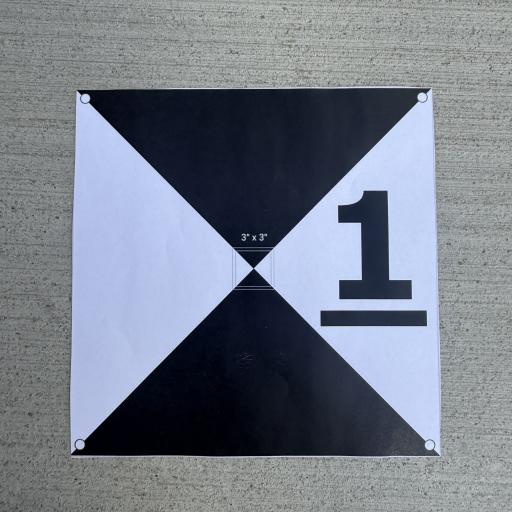target1: (71, 78, 448, 460)
